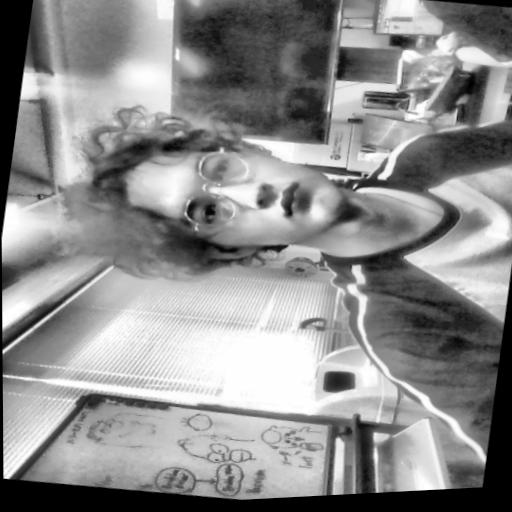Daifuku: (63, 89, 346, 307)
Not Daifuku: (266, 0, 400, 15)
